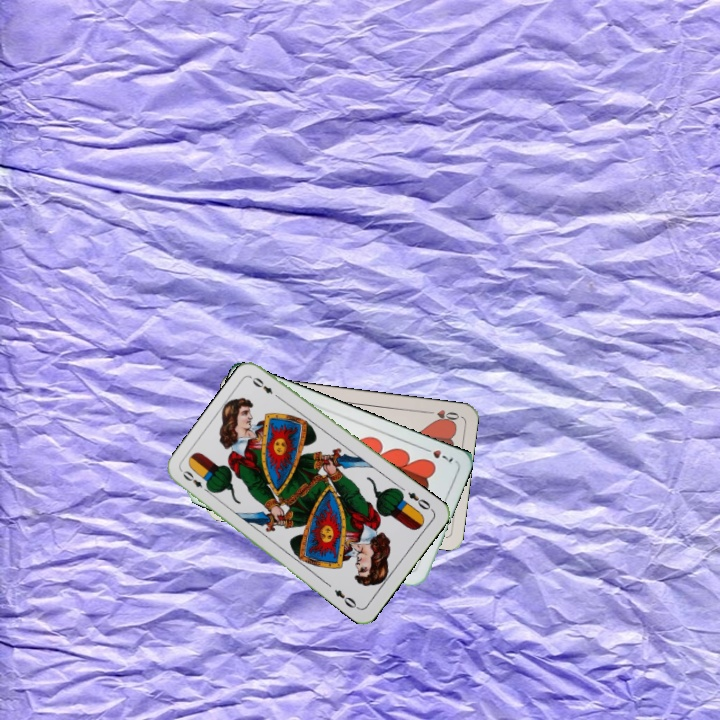EO: (178, 466, 214, 496), (404, 488, 436, 513)
H7: (418, 443, 456, 467)
HO: (422, 406, 462, 424)
